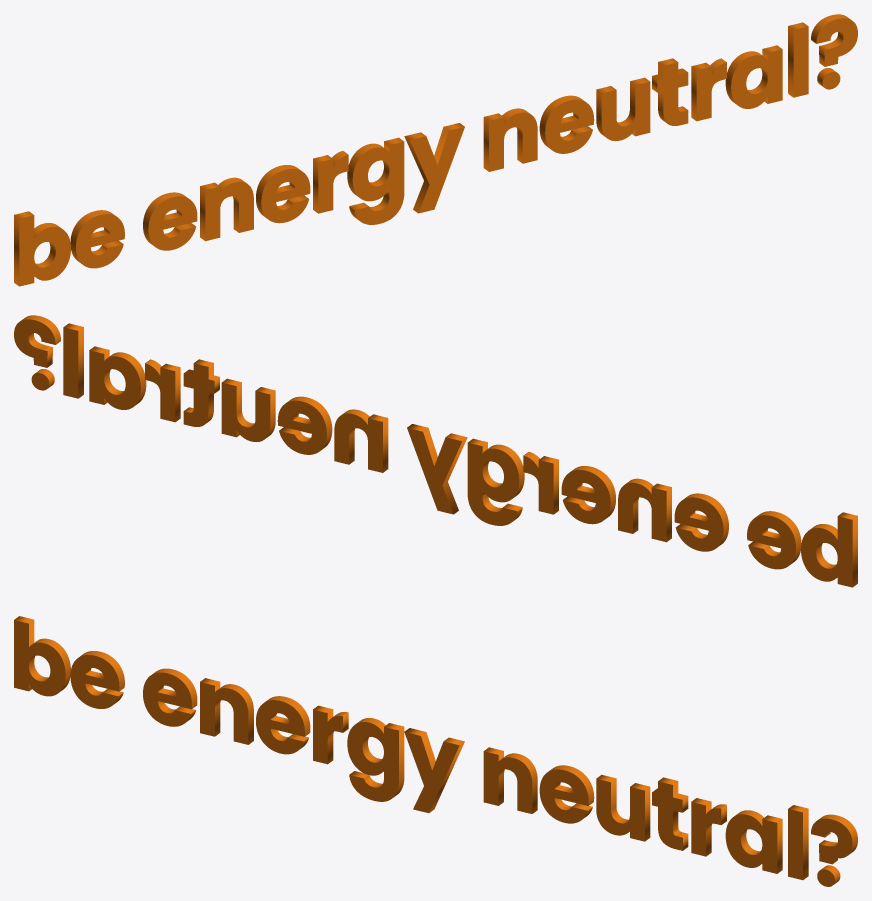
Rendered from yazi2.gltf.
3 renders of one model, top to bottom at view 1: azimuth 30°, elevation 25°; view 2: azimuth 150°, elevation 25°; view 3: azimuth 330°, elevation 25°, orthographic.
Parts seen in each view (by area): view 1: Text.015; view 2: Text.015; view 3: Text.015.
Part boxes in pixels (box(x1,y1,x2,y2)): Text.015: box(14, 14, 857, 286); Text.015: box(14, 315, 857, 587); Text.015: box(14, 616, 857, 886).
Size of the model in its own units: 0.387 by 0.0411 by 0.00435.
